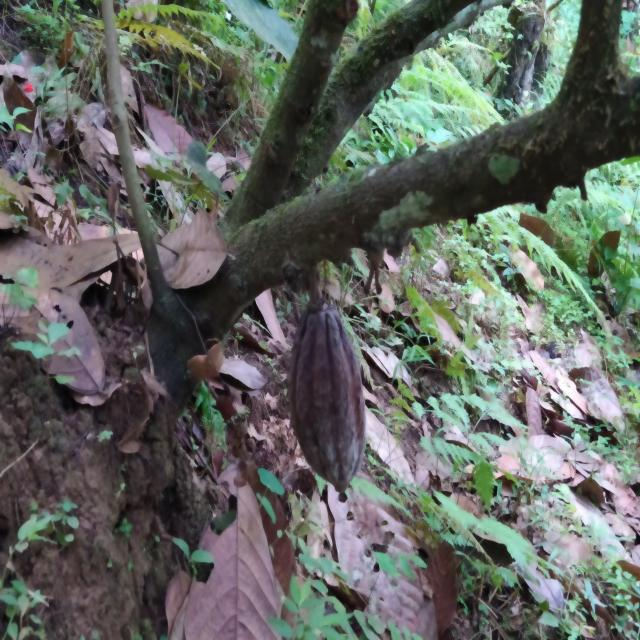Fitoftora: (288, 302, 367, 486)
